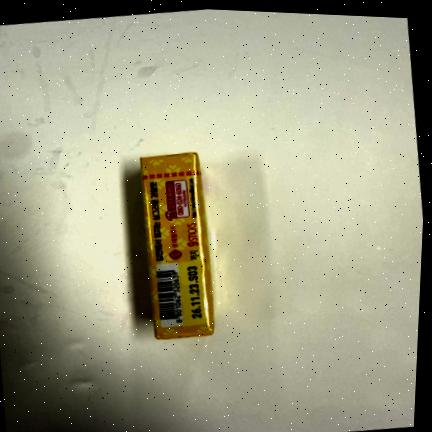gum_yellow: (141, 153, 215, 339)
